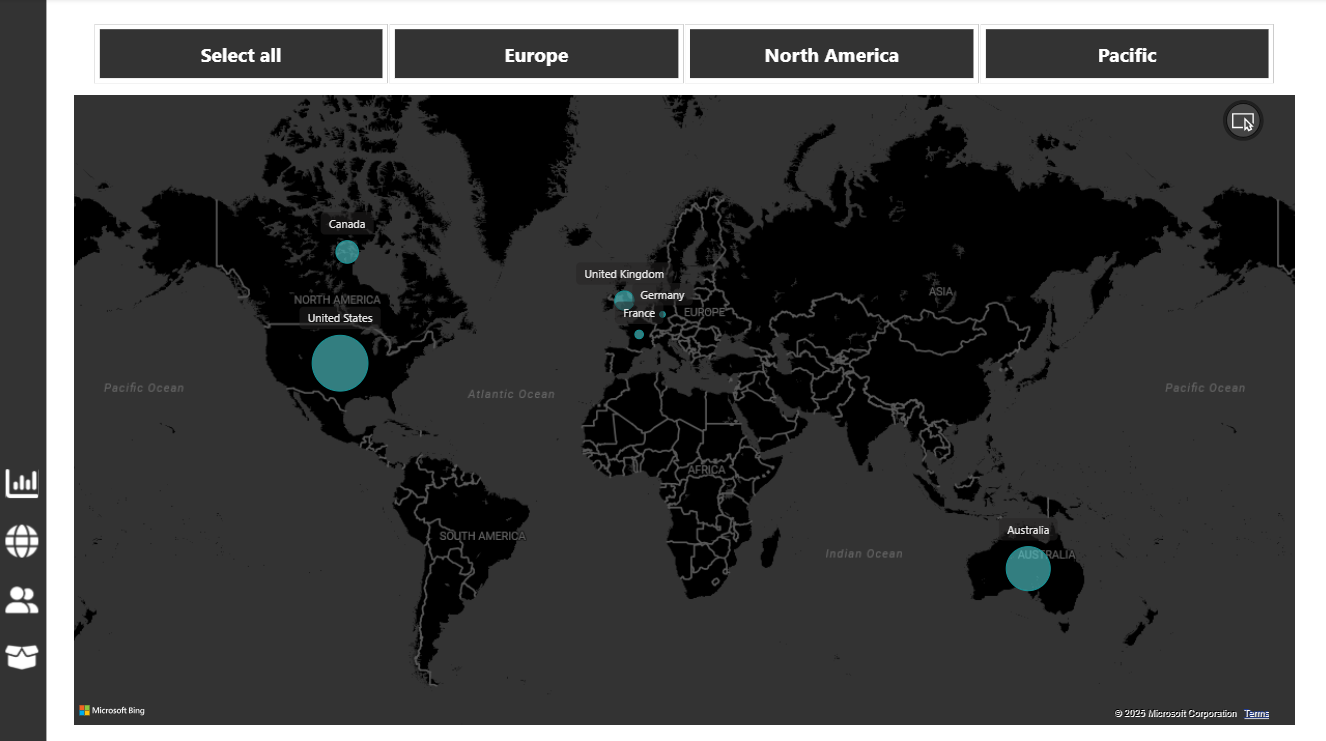

What the dashboard file says about the page in this screenshot:
{"tool":"powerbi","page":{"name":"Map","canvas":[1280,720],"ordinal":1},"visuals":[{"type":"shape","box":[0,0,45,720],"z":0},{"type":"actionButton","box":[1.2,448.8,44.6,39.8],"z":0,"group":"g1"},{"type":"map","fields":{"Category":["Territory Lookup.Country"],"Size":["Measure Table.Total Orders"]},"box":[66.4,89.3,1188.3,617.7],"z":1000},{"type":"actionButton","box":[1.2,504.7,44.6,39.8],"z":1000,"group":"g1"},{"type":"slicer","fields":{"Values":["Territory Lookup.Continent"]},"box":[65.1,18.1,1188.3,71.2],"z":2000},{"type":"actionButton","box":[1.2,616.5,44.6,39.8],"z":2000,"group":"g1"},{"type":"group","id":"g1","title":"Nav Buttons","box":[1.2,448.8,44.6,207.5],"z":3000},{"type":"actionButton","box":[1.2,560.6,44.6,39.8],"z":3000,"group":"g1"}]}

Visuals, with their boxes in screenshot pixels (x1, y1, x2, y2):
shape: {"x1": 0, "y1": 3, "x2": 46, "y2": 736}
actionButton: {"x1": 1, "y1": 460, "x2": 47, "y2": 500}
map - Territory Lookup.Country x Measure Table.Total Orders: {"x1": 68, "y1": 94, "x2": 1276, "y2": 722}
actionButton: {"x1": 1, "y1": 517, "x2": 47, "y2": 557}
slicer - Territory Lookup.Continent: {"x1": 66, "y1": 22, "x2": 1275, "y2": 94}
actionButton: {"x1": 1, "y1": 630, "x2": 47, "y2": 671}
"Nav Buttons" group: {"x1": 1, "y1": 460, "x2": 47, "y2": 671}
actionButton: {"x1": 1, "y1": 574, "x2": 47, "y2": 614}
